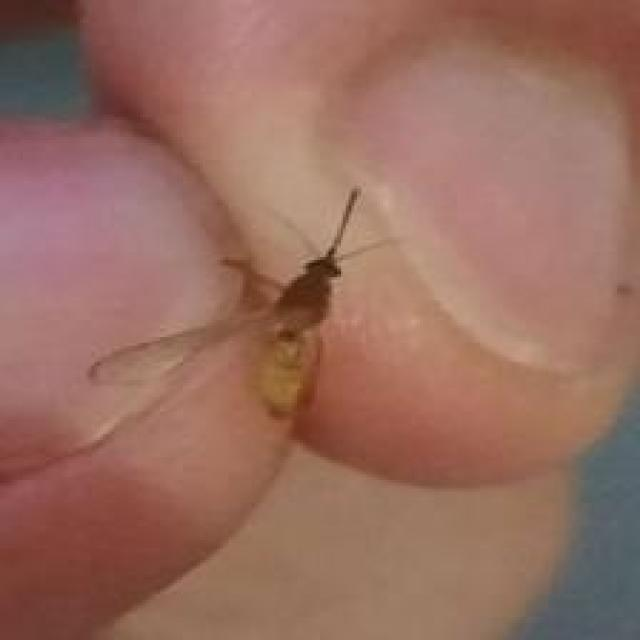Culex: (81, 181, 402, 450)
